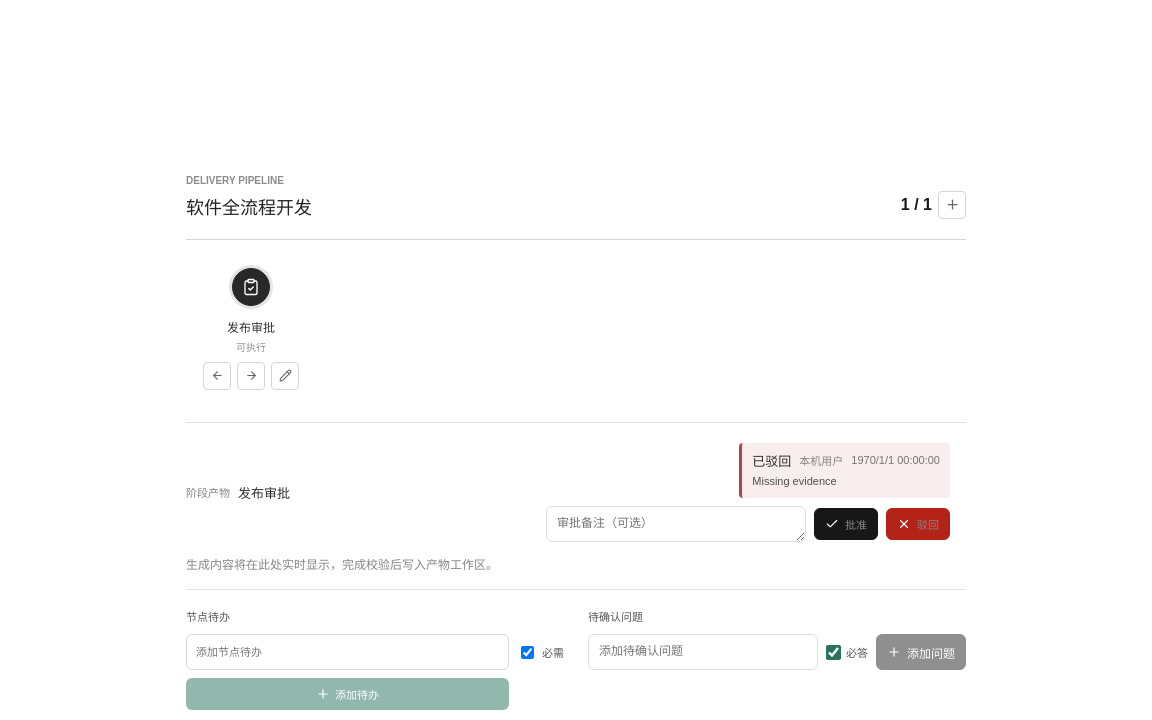
RequirementDetailPage AI run controls › keeps persisted approval state and safely toasts command failure
(page scrolled)
Click the button with aria-label "批准节点" at (846, 524), box 814,508 -> 878,540
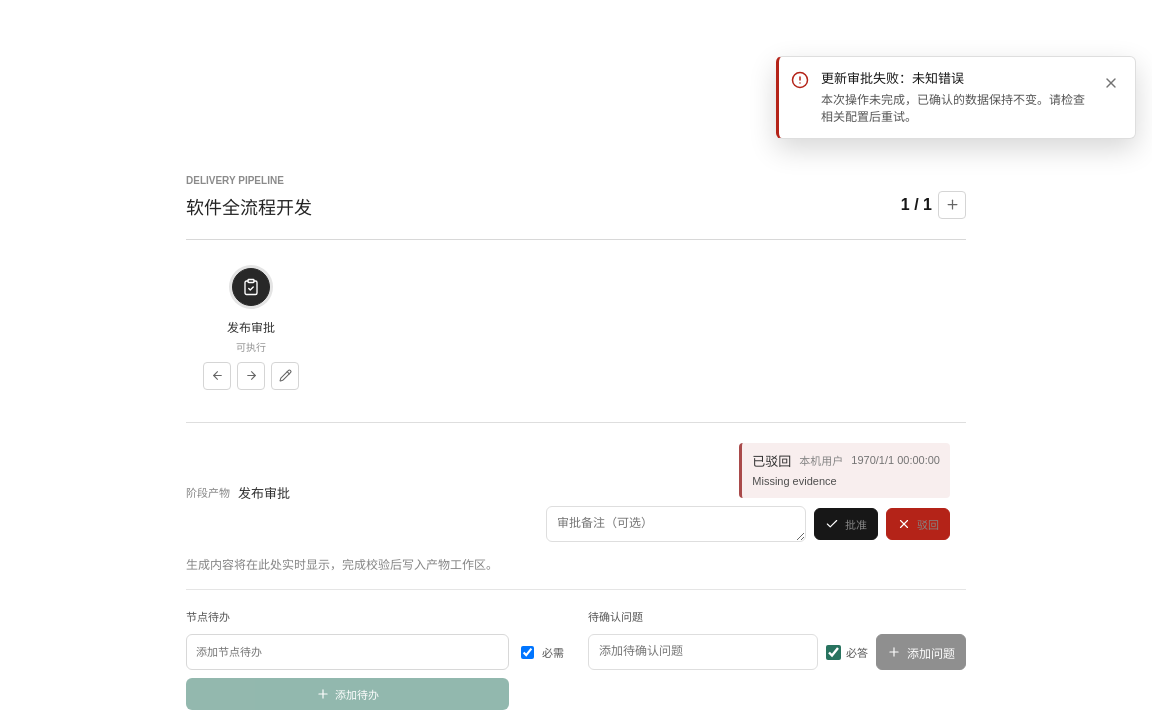
Expected: the text "已驳回" is shown, 752,451 -> 791,470
Now the text "更新审批失败：未知错误" is shown, box 821,71 -> 964,86
